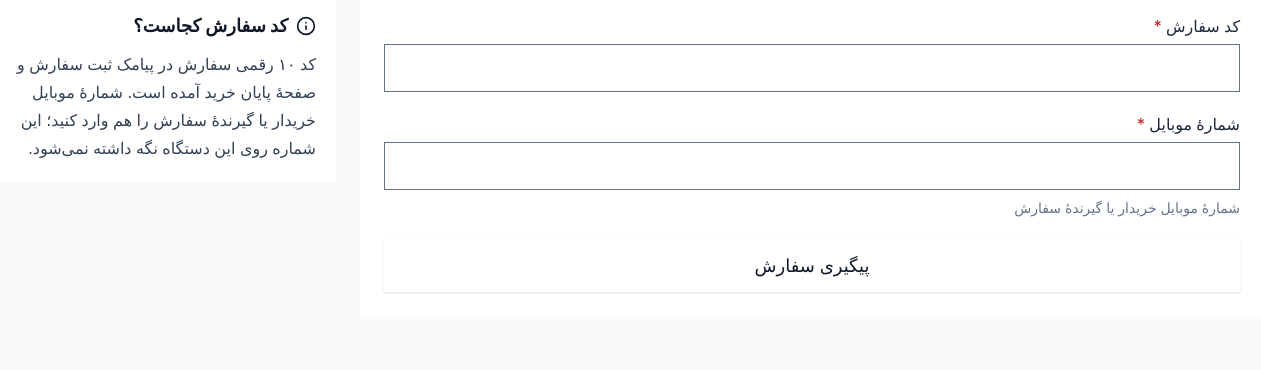
Test: the API’s answers › 400: each message under its field (the live body)
Type "2583973877" into the field labelled "کد سفارش *".
click(812, 68); type("2583973877")  # box [385,45,1239,91]
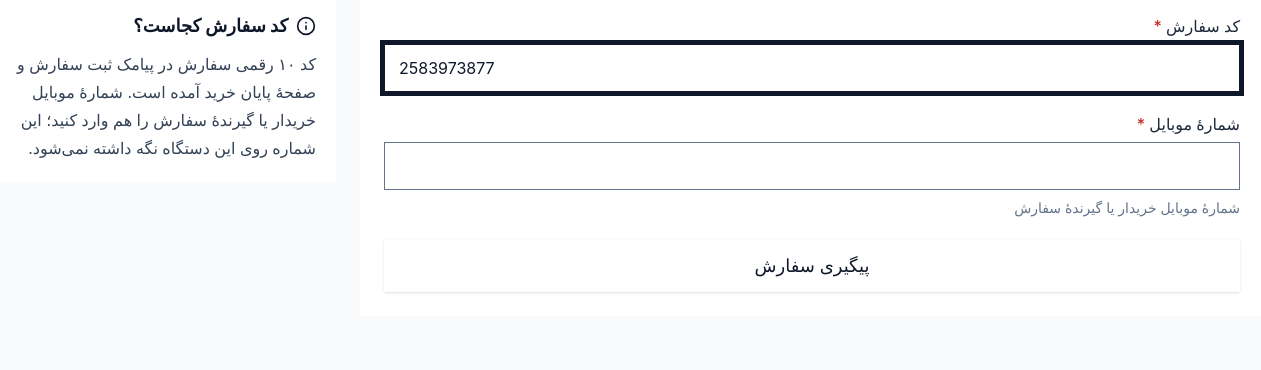
Type "09011234513" into the field labelled "شمارهٔ موبایل *".
click(812, 166); type("09011234513")  # box [385,143,1239,189]
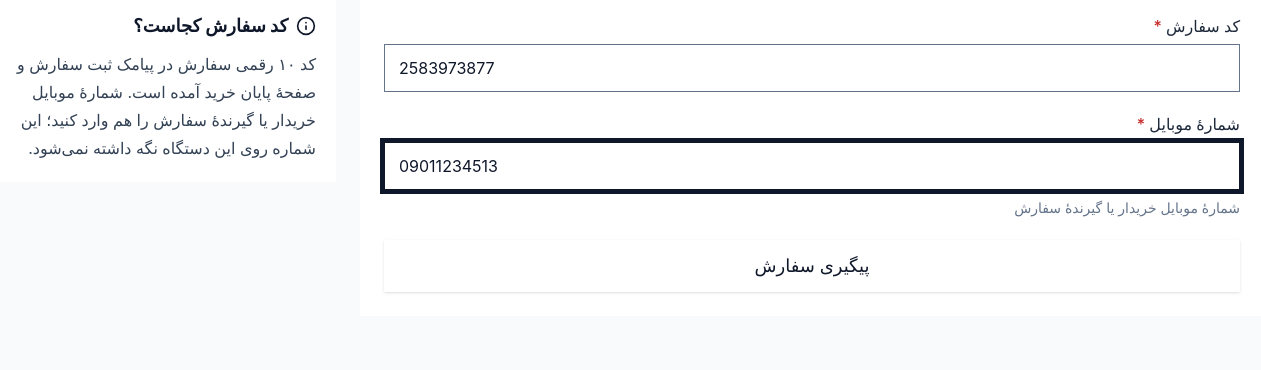
Click the button "پیگیری سفارش".
click(812, 266)  # box [384,240,1240,292]
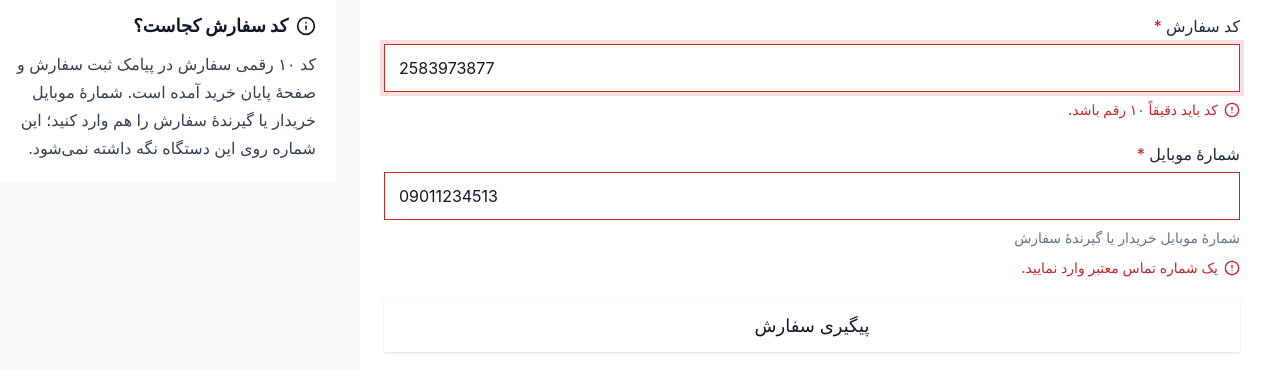
Now the text "کد باید دقیقاً ۱۰ رقم باشد." is shown, box [1068,98,1218,122]
